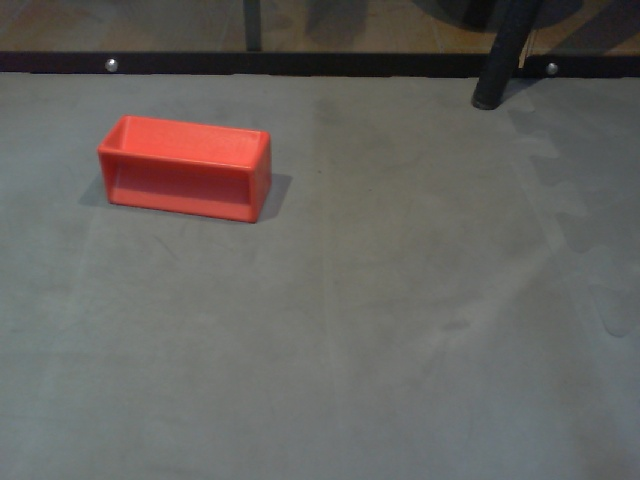RedSample: (97, 113, 274, 225)
